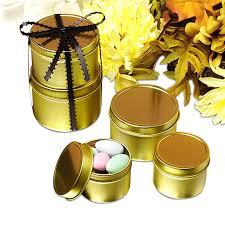Tin: (15, 11, 225, 214)
